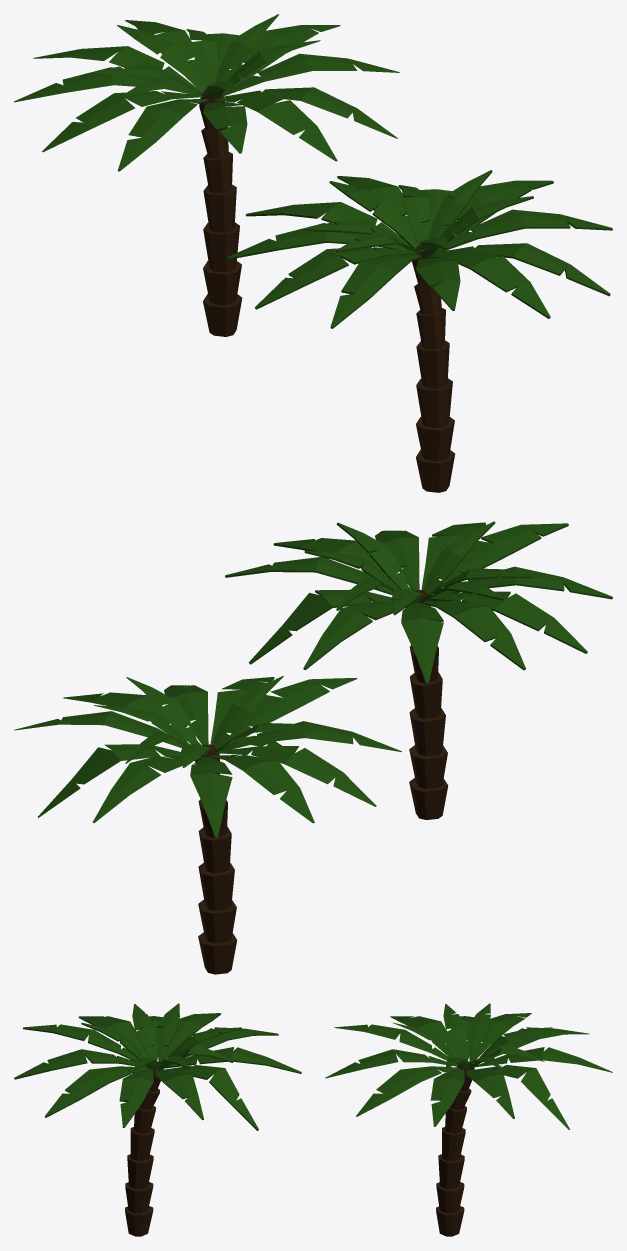
File: LP small Palm tree .obj
The picture shows the model from 3 angles, top to bottom: view 1: azimuth 30°, elevation 25°; view 2: azimuth 150°, elevation 25°; view 3: azimuth 270°, elevation 25°; orthographic projection. The views are drawn at different scales.
Visible parts, largest first — view 1: Palm_Tree_S_T_Cube.003, Palm_Tree_S_Plane.002; view 2: Palm_Tree_S_T_Cube.003, Palm_Tree_S_Plane.002; view 3: Palm_Tree_S_T_Cube.003, Palm_Tree_S_Plane.002.
Boxes of the visible parts, x1=… form: Palm_Tree_S_T_Cube.003: x1=227, y1=170, x2=612, y2=492; Palm_Tree_S_Plane.002: x1=14, y1=14, x2=399, y2=336; Palm_Tree_S_T_Cube.003: x1=225, y1=521, x2=612, y2=819; Palm_Tree_S_Plane.002: x1=14, y1=676, x2=401, y2=974; Palm_Tree_S_T_Cube.003: x1=14, y1=1003, x2=301, y2=1236; Palm_Tree_S_Plane.002: x1=325, y1=1003, x2=612, y2=1236.
Bounding box in the file's own units: 7.02 × 5.45 × 14.79.
